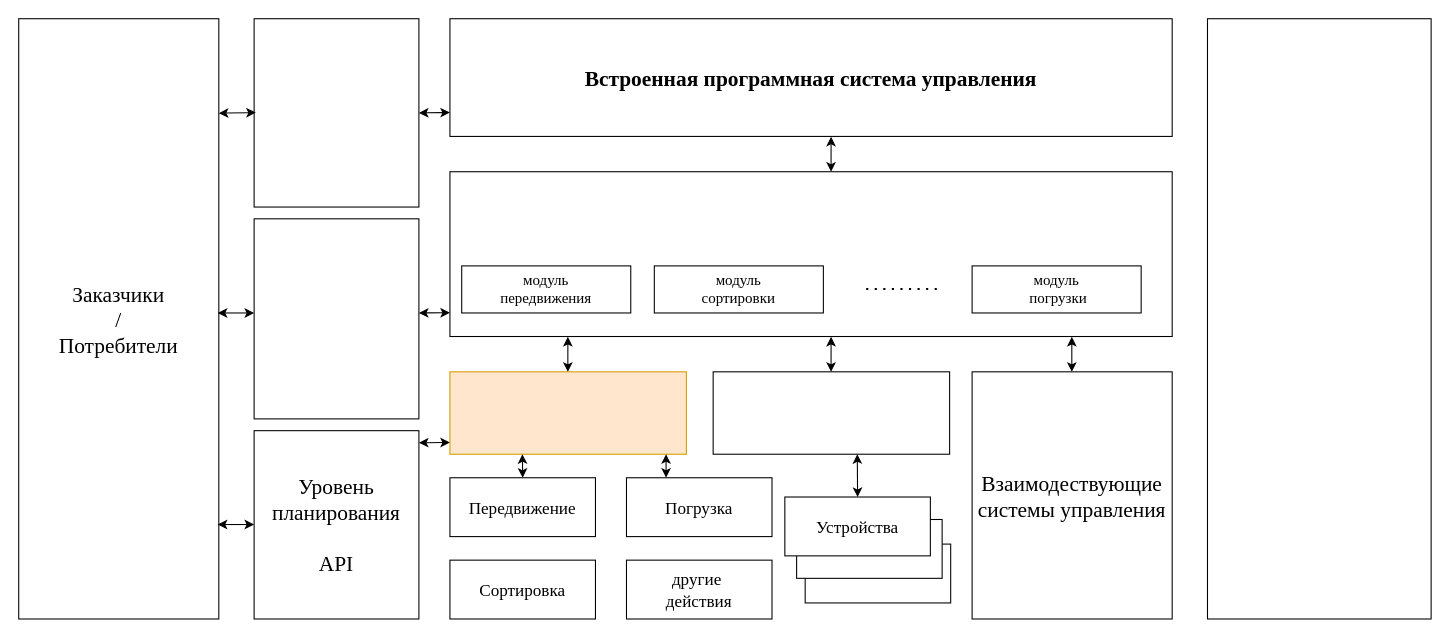
Some shapes in this 1450 by 638 pixel diagram are drawn without their labels. Here are the shapes that lost their labels. From the top down, the box of each, then its label:
(253, 18, 419, 207): Сервисный уровень API
(449, 171, 1172, 337): Встроенная программная исполнительная подсистема
(253, 218, 419, 419): Уровень требований API
(1206, 18, 1431, 619): Платформа данных Платформа симуляций и тестирования Библиотека алгоритмов
(449, 371, 686, 454): Система управления НТТС
(712, 371, 950, 454): Система управления технологическим процессом
